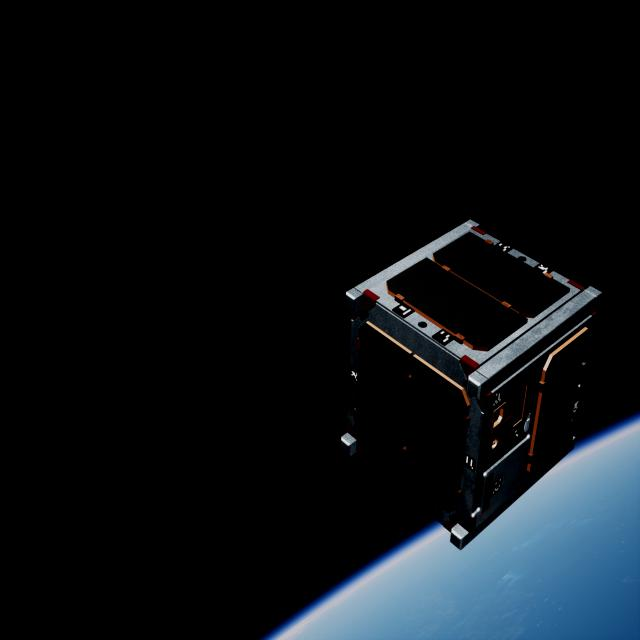satellite: (337, 224, 604, 553)
